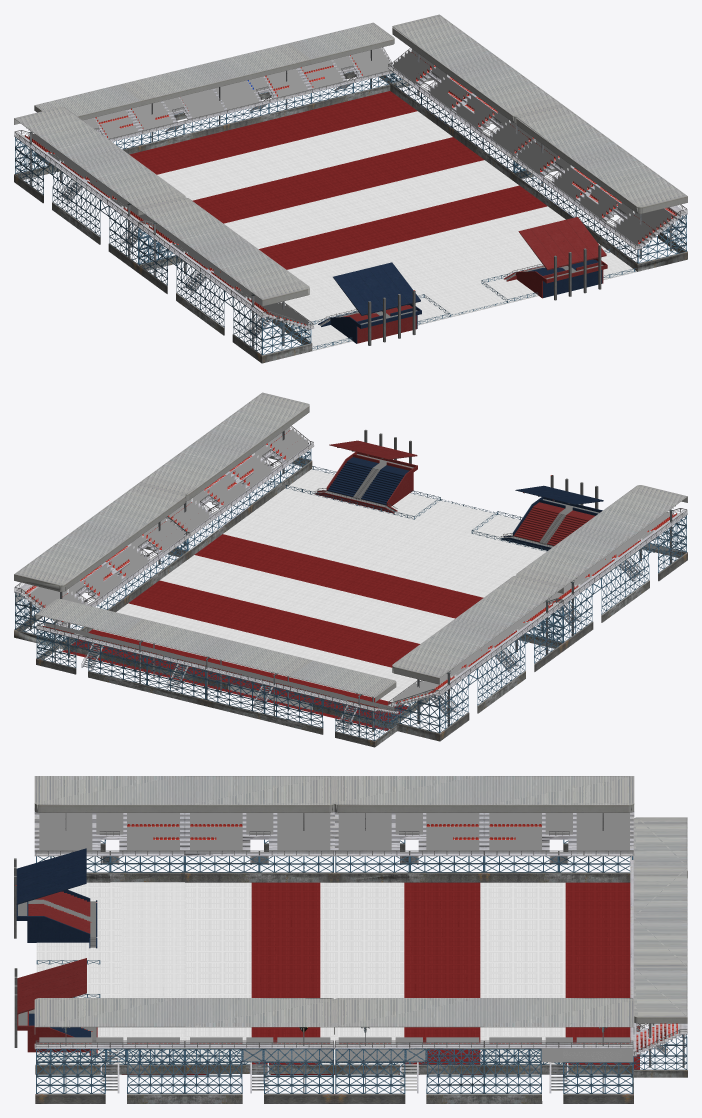
The model's file is start game.fbx.
3 views of the same model, one above another, from view 1: azimuth 30°, elevation 25°; view 2: azimuth 150°, elevation 25°; view 3: azimuth 270°, elevation 25° (orthographic). The views are drawn at different scales.
Parts seen in each view (by area): view 1: ground; view 2: ground; view 3: ground.
Part boxes in pixels (left/top/right/bottom): ground: left=14, top=14, right=687, bottom=363; ground: left=14, top=392, right=687, bottom=747; ground: left=14, top=776, right=687, bottom=1103.
Size of the model in its own units: 15067 by 2172 by 17092.
